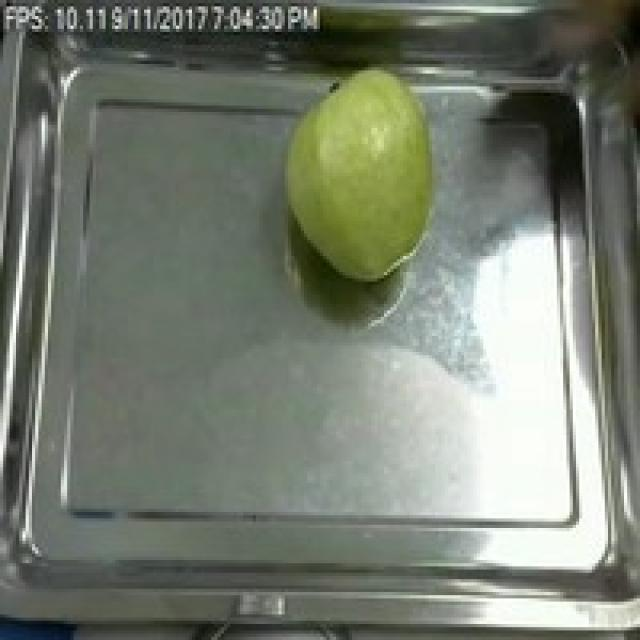Fruit: (272, 58, 448, 288)
